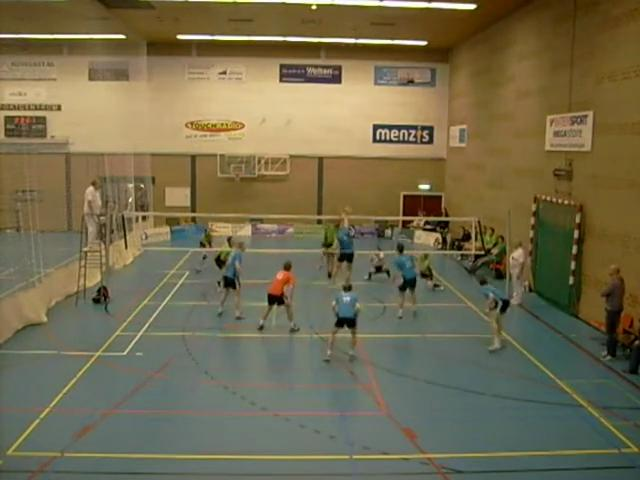Attack: (324, 204, 360, 289)
Player: (258, 261, 299, 332), (324, 283, 359, 361), (478, 276, 509, 350), (218, 241, 244, 319), (394, 243, 416, 318), (320, 222, 338, 279), (418, 252, 443, 289), (365, 247, 390, 279), (199, 228, 212, 248), (216, 279, 221, 288)
ball: (341, 206, 354, 215)
